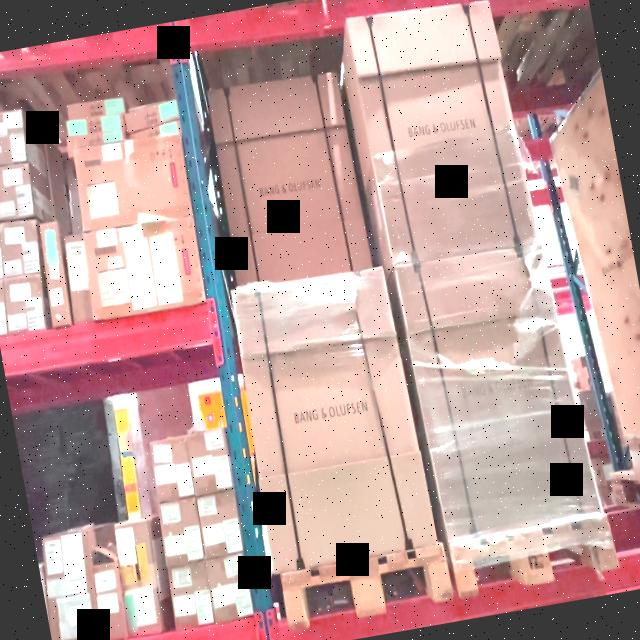box: (231, 267, 437, 575), (397, 248, 602, 537), (346, 0, 537, 266), (207, 72, 372, 286)
